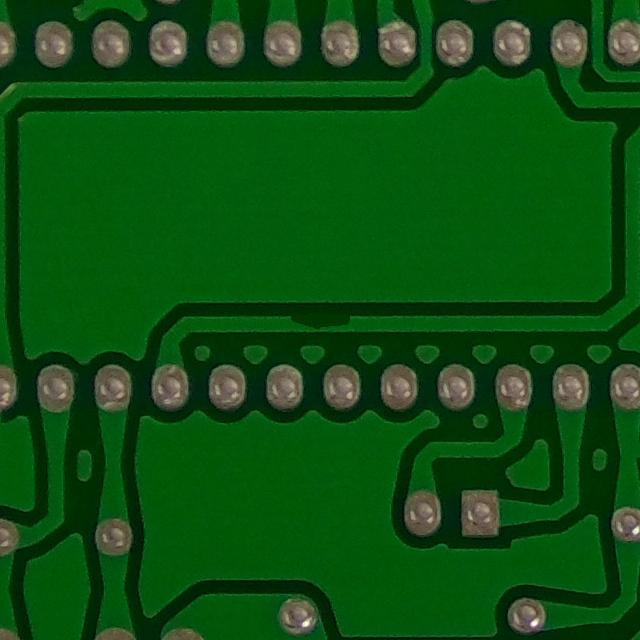mouse_bite: (278, 301, 363, 340)
